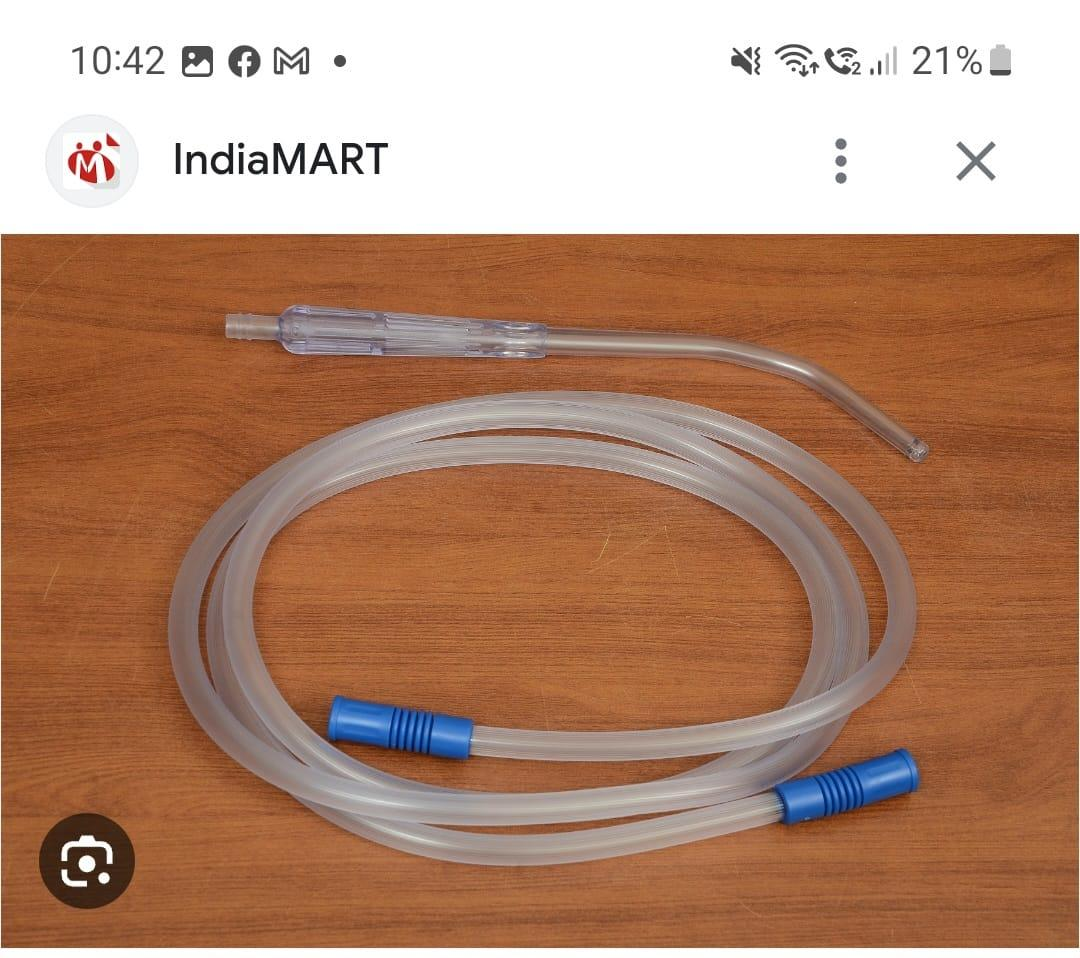Suction Tube Nozzle: (164, 297, 954, 879)
